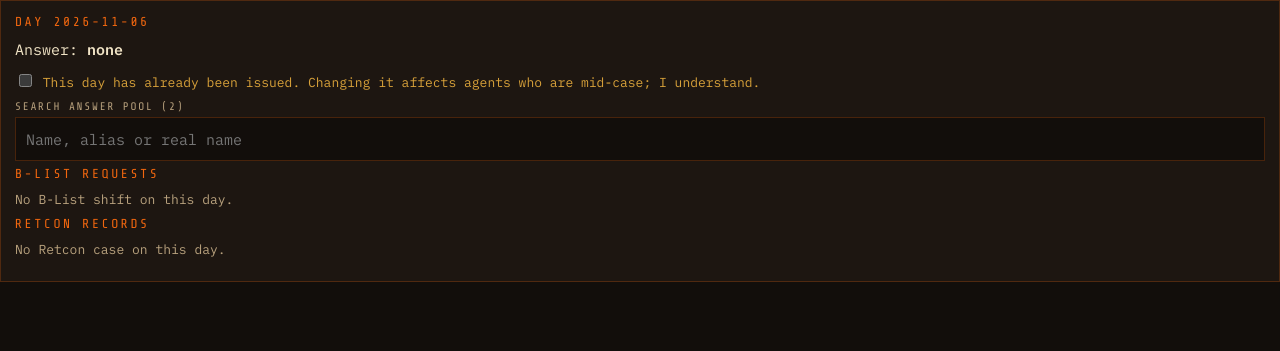
Test: DayEditor › locks days already issued until the owner confirms
The width and height of the screenshot is (1280, 351).
Later steps or results of the test are not shown.
Type "rogue" into the search field at (640, 139), box [15,117,1265,161]
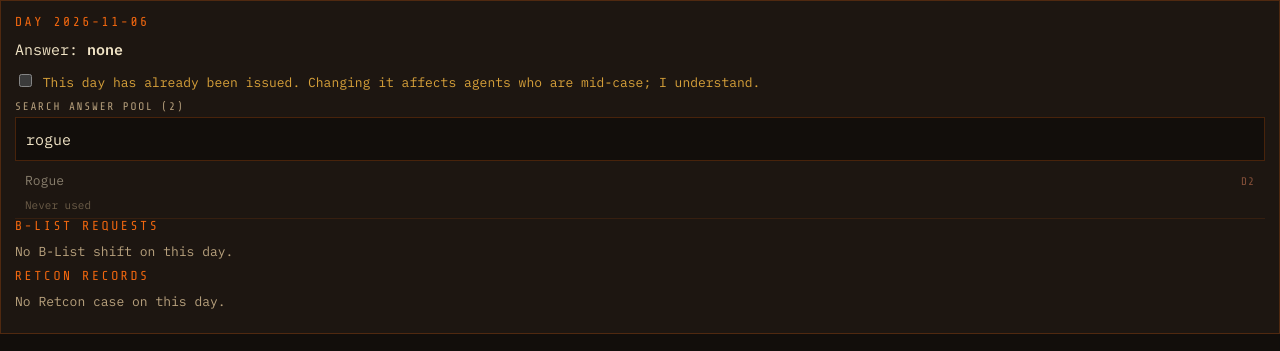
Expected: the button "Rogue D2 Never used" is disabled, [15,167,1265,219]
